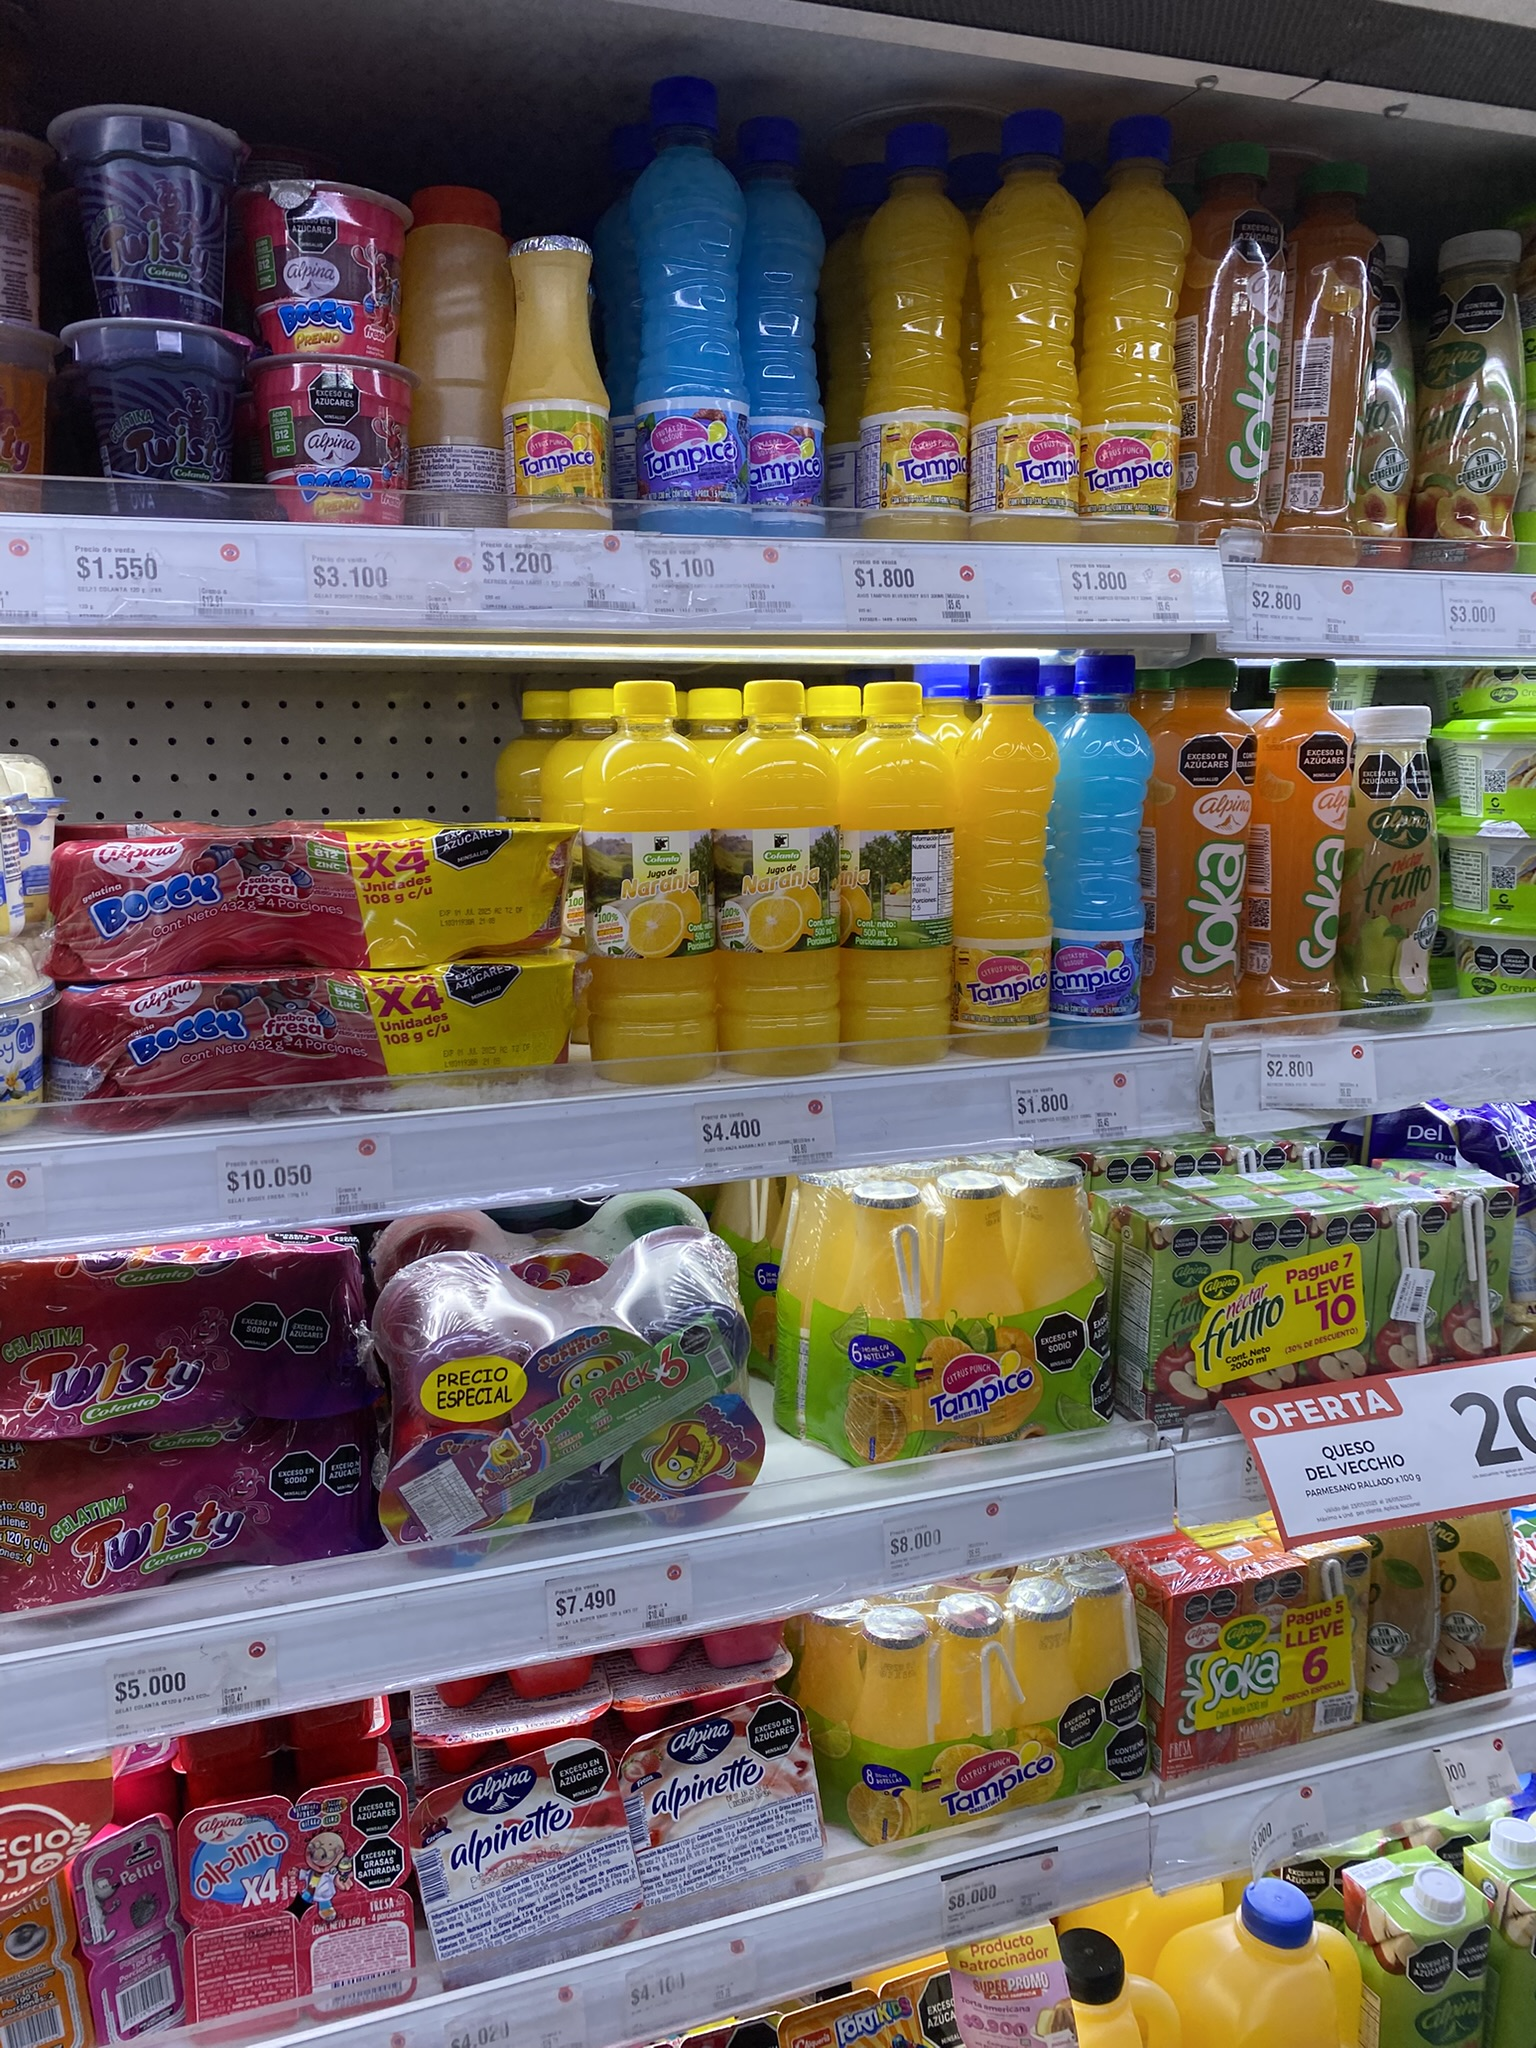Jugo de Naranja: (715, 671, 841, 1084), (594, 681, 710, 1087), (842, 672, 952, 1064)
